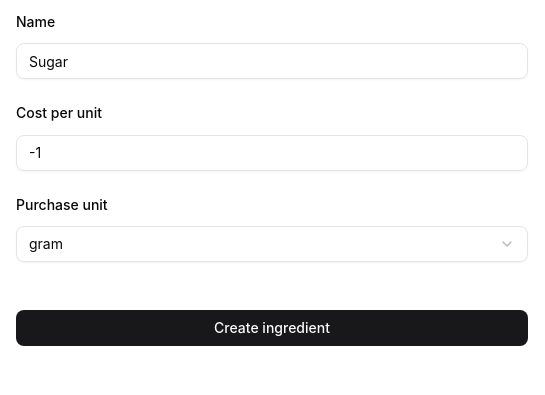
Scenario: IngredientForm › form validation and other error scenarios › clears zod validation error when user starts typing in the corresponding field after an error
Submit the form named "Create ingredient form"
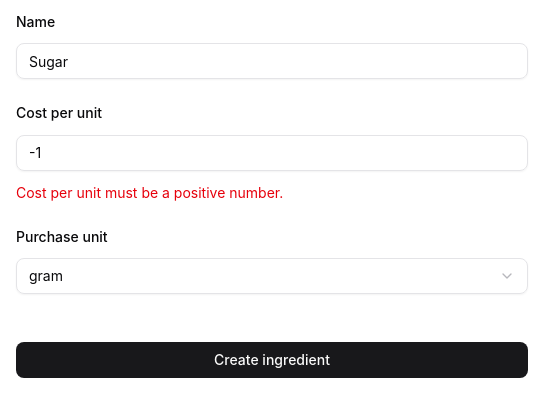
Now the text "Cost per unit must be a positive number." is shown, box 16,184 -> 283,200
Clear the field labelled "Cost per unit" at (272, 152), box 16,134 -> 528,170
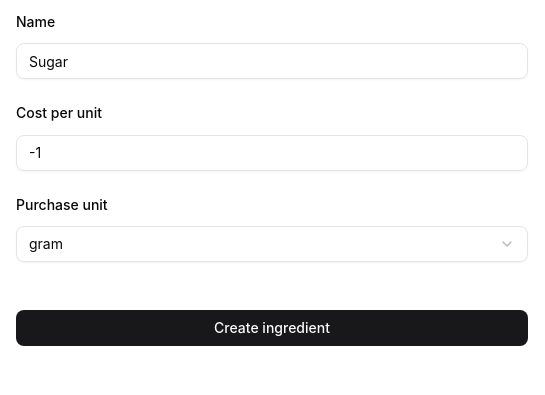
Now the text "Cost per unit must be a positive number." is gone
